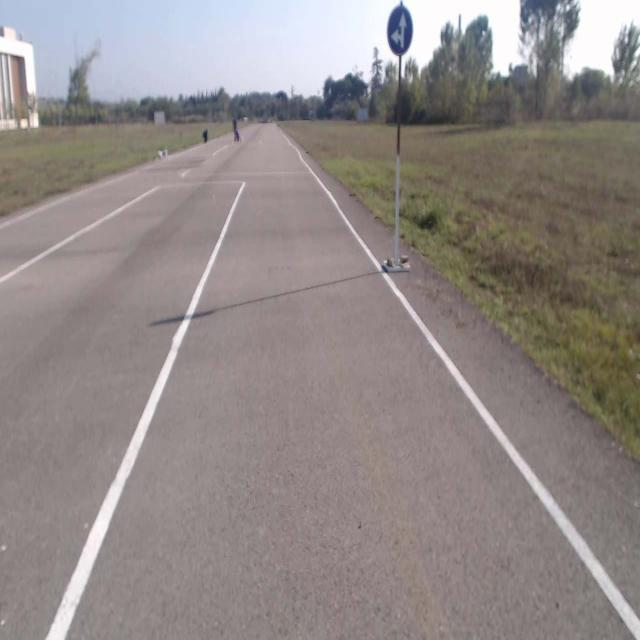ilerisol: (387, 8, 413, 56)
